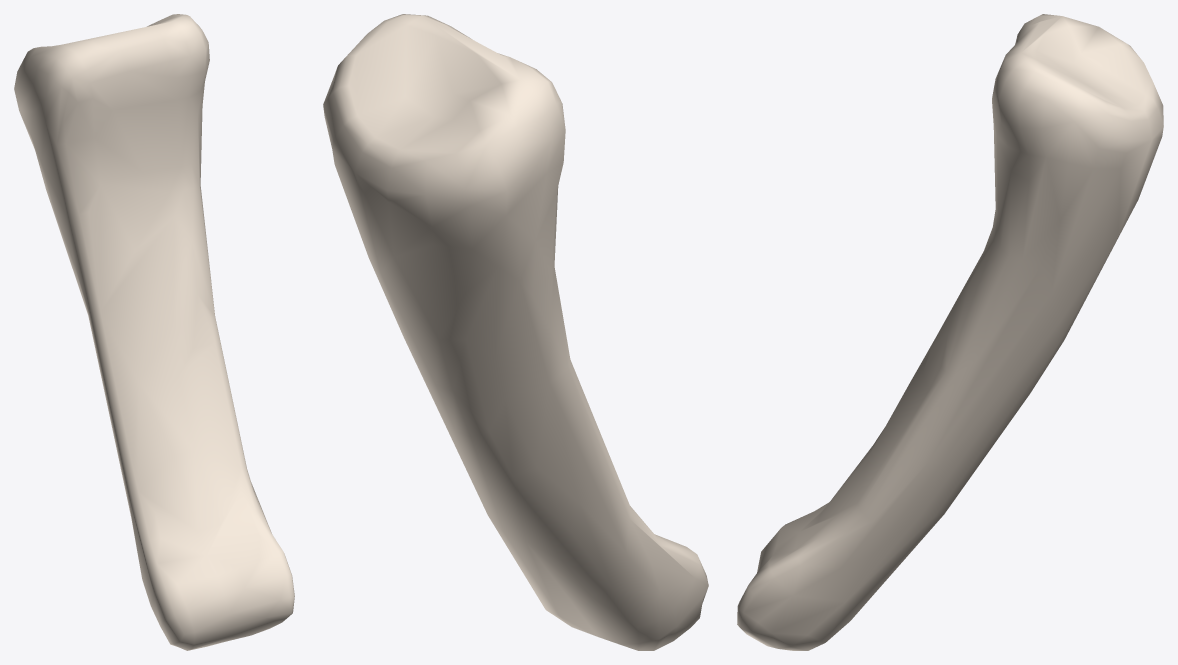
File: right_digit_4_proximal.glb
3 views of the same model, side by side, from view 1: azimuth 30°, elevation 25°; view 2: azimuth 150°, elevation 25°; view 3: azimuth 270°, elevation 25° (orthographic). The views are drawn at different scales.
Parts seen in each view (by area): view 1: Proximal phalanx of 4th finger.r; view 2: Proximal phalanx of 4th finger.r; view 3: Proximal phalanx of 4th finger.r.
Part boxes in pixels (bbox=[...]): Proximal phalanx of 4th finger.r: bbox=[14, 14, 294, 650]; Proximal phalanx of 4th finger.r: bbox=[323, 14, 708, 650]; Proximal phalanx of 4th finger.r: bbox=[737, 14, 1163, 650].
Size of the model in its own units: 0.0129 by 0.0402 by 0.0252.
